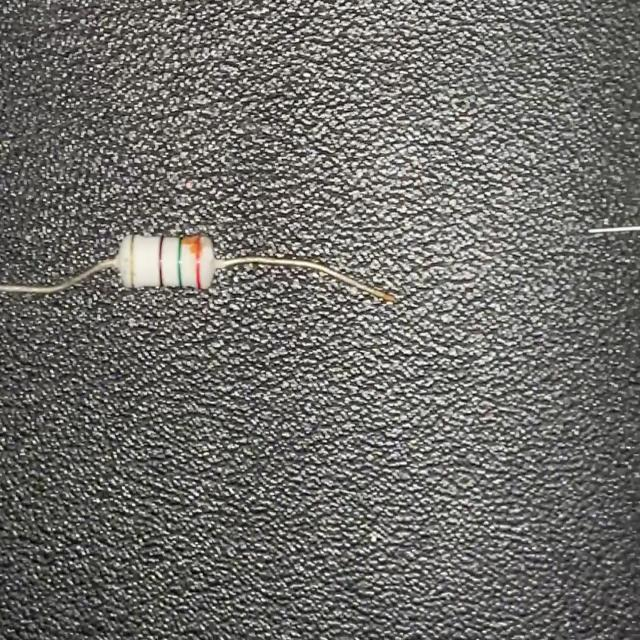burnt: (180, 230, 206, 258)
resistor: (0, 227, 396, 305)
